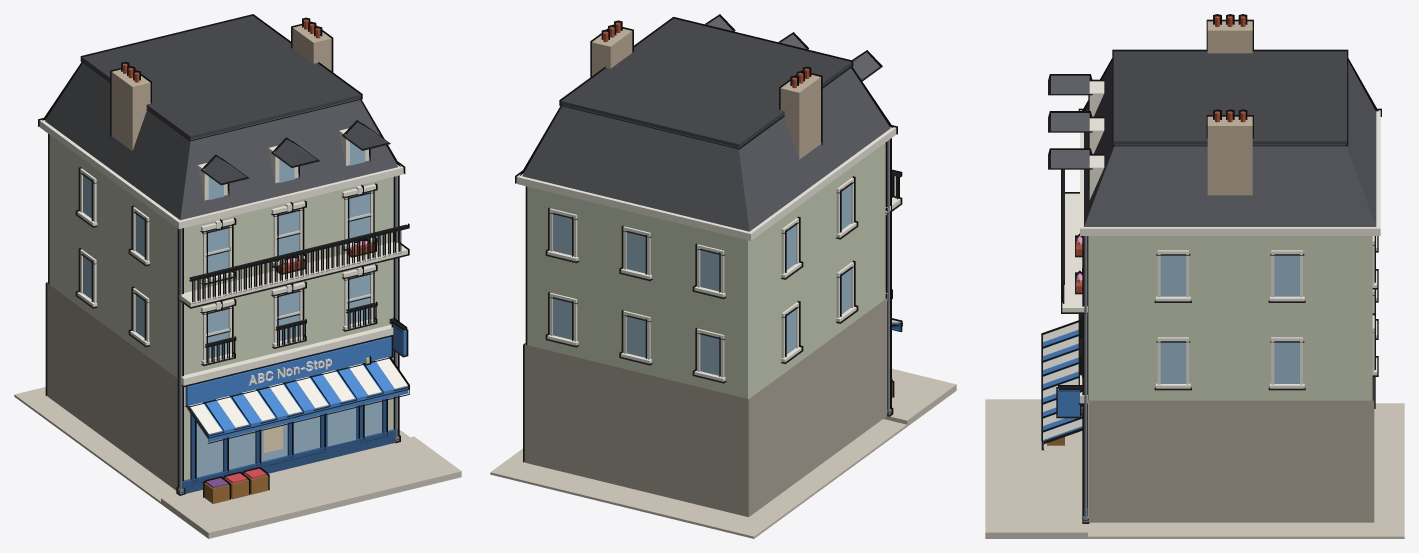
Rendered from Dukkan_abc_nonstop.fbx.
3 renders of one model, left to right at view 1: azimuth 30°, elevation 25°; view 2: azimuth 150°, elevation 25°; view 3: azimuth 270°, elevation 25°, orthographic. The views are drawn at different scales.
Visible parts, largest first — view 1: Dukkan_abc_nonstop; view 2: Dukkan_abc_nonstop; view 3: Dukkan_abc_nonstop.
Boxes of the visible parts, <box> form: Dukkan_abc_nonstop: <box>14,14,461,538</box>; Dukkan_abc_nonstop: <box>490,14,956,538</box>; Dukkan_abc_nonstop: <box>985,14,1404,538</box>.
Size of the model in its own units: 9.83 by 14.06 by 13.07.
